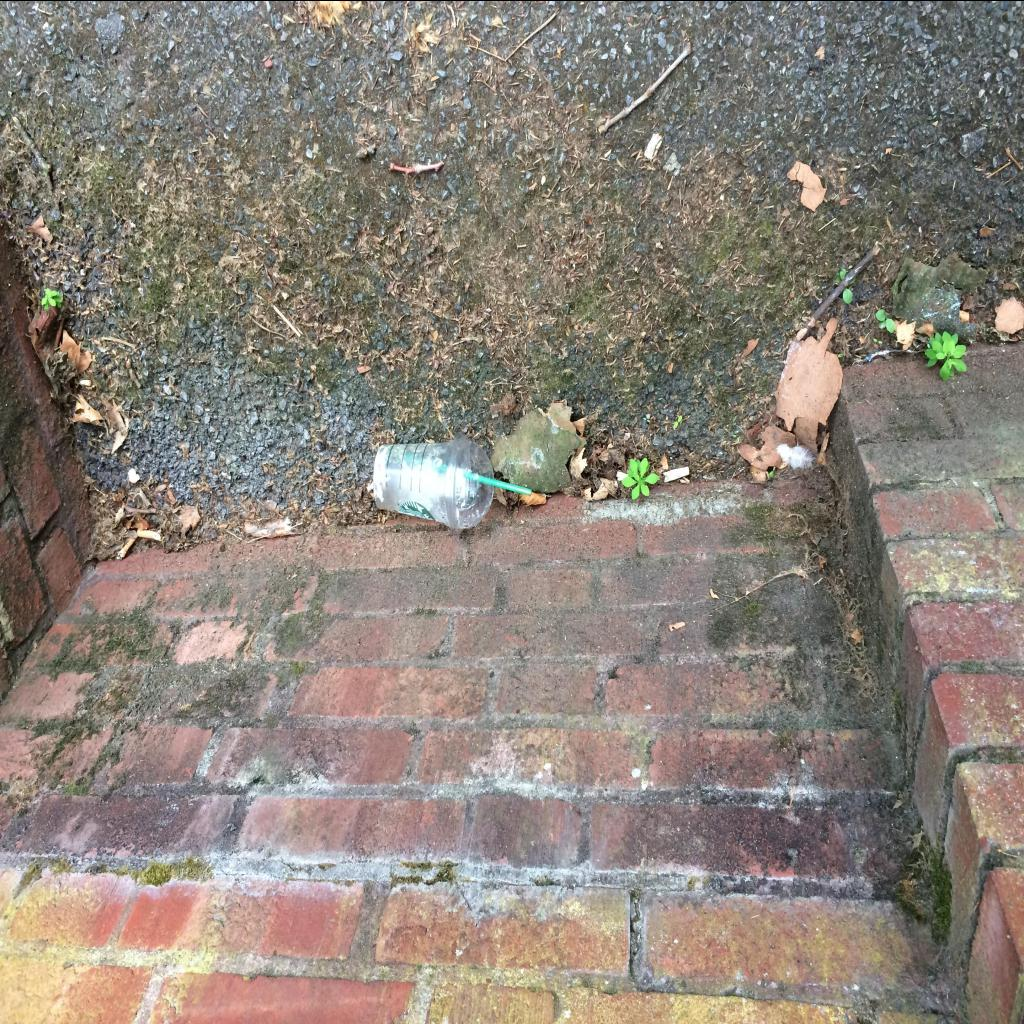Cigarette: (116, 535, 136, 559), (664, 465, 690, 481), (138, 530, 160, 538), (79, 378, 91, 384)
Disposable plastic cup: (374, 436, 470, 528)
Plastic lid: (450, 437, 494, 528)
Plastic straw: (470, 472, 532, 496)
